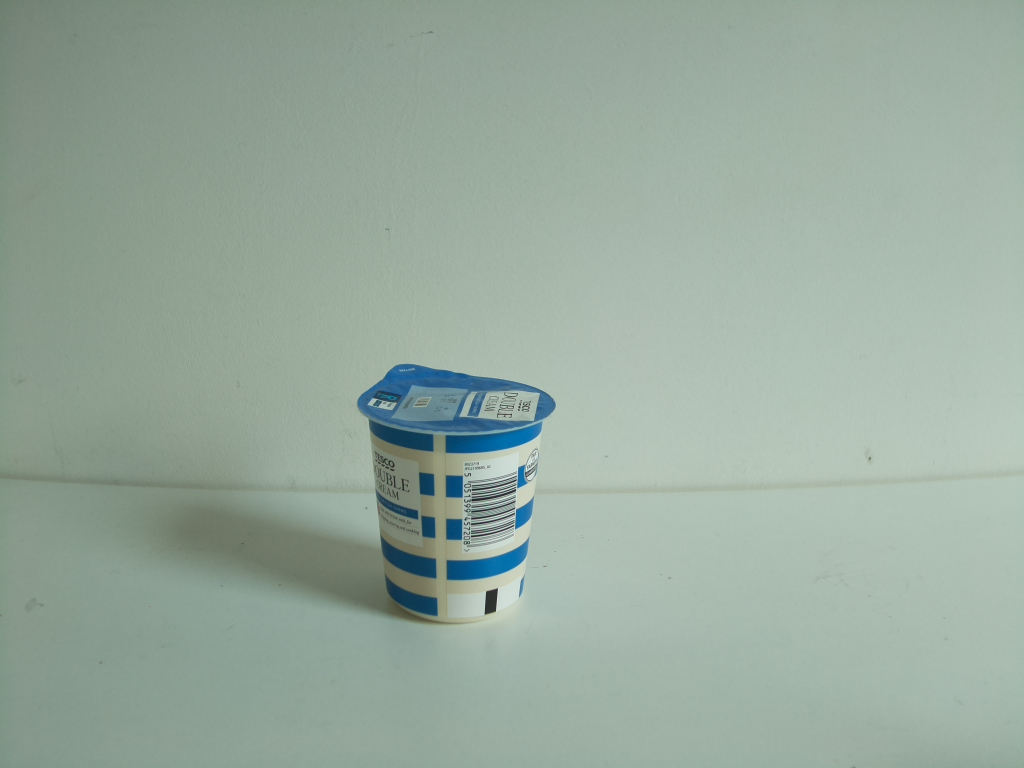cream: (356, 359, 559, 626)
